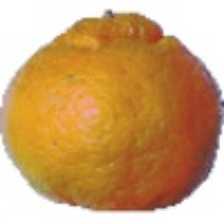tangerine: (40, 5, 207, 202)
